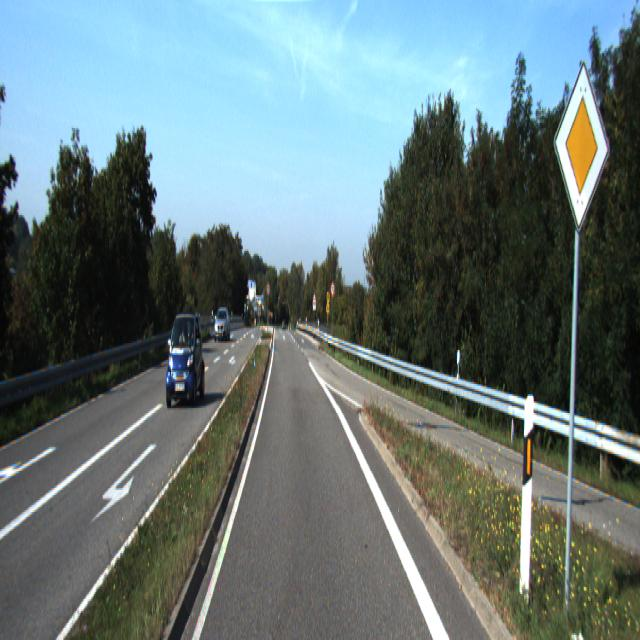Car: (163, 310, 204, 405), (212, 307, 231, 343)
